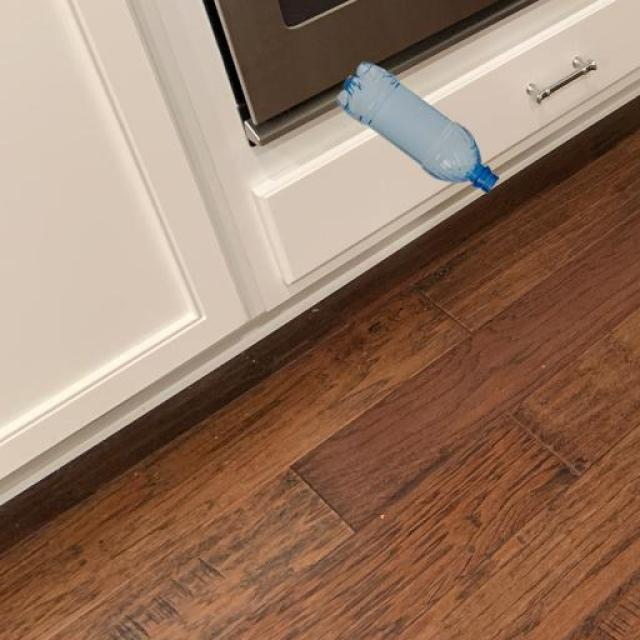bottle: (335, 58, 499, 194)
